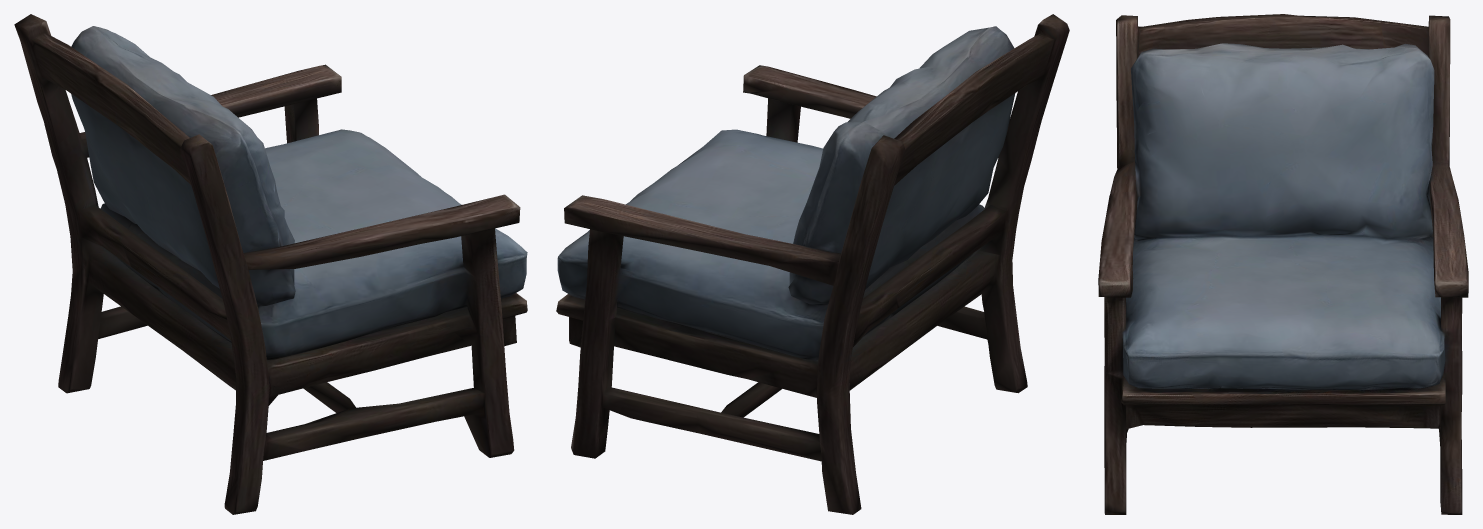
File: parlor_armchair_a.glb
The picture shows the model from 3 angles, left to right: view 1: azimuth 30°, elevation 25°; view 2: azimuth 150°, elevation 25°; view 3: azimuth 270°, elevation 25°; orthographic projection. The views are drawn at different scales.
Visible parts, largest first — view 1: tripo_node_344ed760-61ec-402d-8e3a-253b9b13fe9d; view 2: tripo_node_344ed760-61ec-402d-8e3a-253b9b13fe9d; view 3: tripo_node_344ed760-61ec-402d-8e3a-253b9b13fe9d.
Part boxes in pixels (box(x1,y1,x2,y2)): tripo_node_344ed760-61ec-402d-8e3a-253b9b13fe9d: box(14, 14, 527, 514); tripo_node_344ed760-61ec-402d-8e3a-253b9b13fe9d: box(556, 14, 1069, 514); tripo_node_344ed760-61ec-402d-8e3a-253b9b13fe9d: box(1098, 14, 1468, 514).
Size of the model in its own units: 0.9507 by 1 by 0.9322.
Materials: 1 (1 with a texture image).
